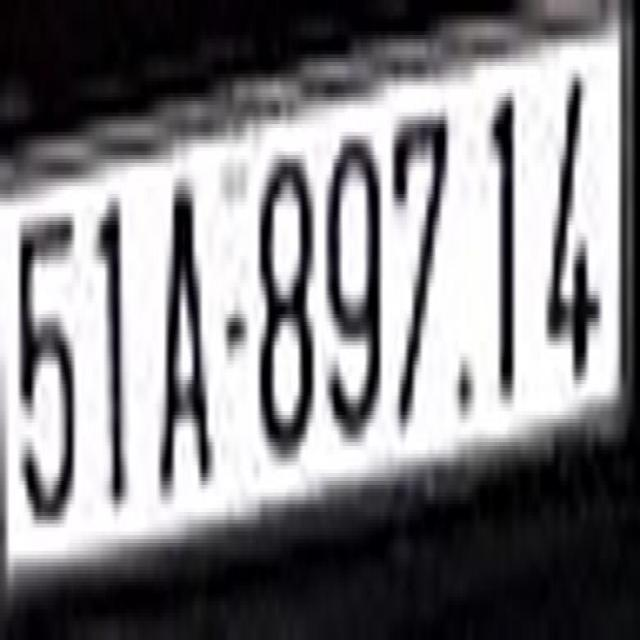1: (483, 74, 522, 407), (90, 190, 128, 508)
4: (540, 62, 605, 384)
5: (15, 202, 79, 535)
7: (390, 93, 449, 427)
8: (256, 143, 318, 466)
9: (323, 120, 384, 450)
A: (157, 159, 217, 493)
